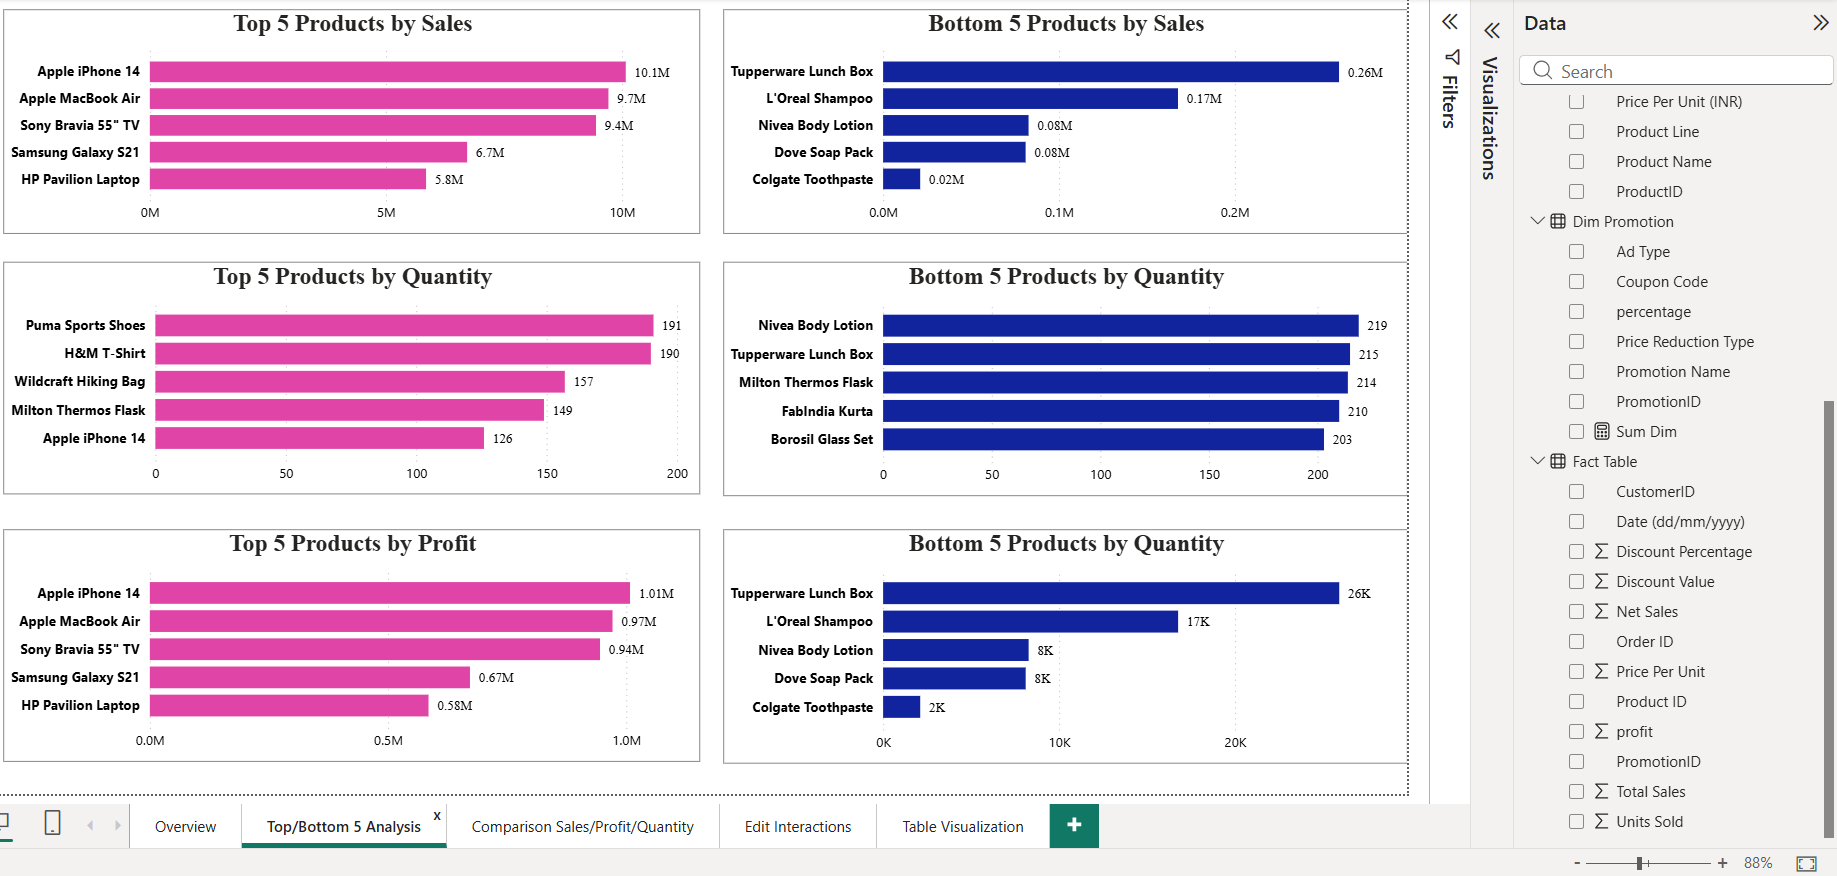

Layout of this report page (visuals, bound fields, positions):
{"tool":"powerbi","page":{"name":"Top/Bottom 5 Analysis","canvas":[1280,720],"ordinal":1},"visuals":[{"type":"barChart","title":"Top 5 Products by Sales","fields":{"Category":["Dim Product.Product Name"],"Y":["Sum(Fact Table.Net Sales)"]},"box":[9.8,9.8,630.3,203.6],"z":0},{"type":"barChart","title":"Bottom 5 Products by Sales","fields":{"Category":["Dim Product.Product Name"],"Y":["Sum(Fact Table.Net Sales)"]},"box":[661.2,9.8,619.1,203.6],"z":1000},{"type":"barChart","title":"Top 5 Products by Quantity","fields":{"Category":["Dim Product.Product Name"],"Y":["Sum(Fact Table.Units Sold)"]},"box":[9.8,238.6,630.3,210.6],"z":2000},{"type":"barChart","title":"Bottom 5 Products by Quantity","fields":{"Category":["Dim Product.Product Name"],"Y":["Sum(Fact Table.Units Sold)"]},"box":[661.2,238.6,619.1,212],"z":3000},{"type":"barChart","title":"Top 5 Products by Profit","fields":{"Category":["Dim Product.Product Name"],"Y":["Sum(Fact Table.profit)"]},"box":[9.8,480.1,630.3,210.6],"z":4000},{"type":"barChart","title":"Bottom 5 Products by Quantity","fields":{"Category":["Dim Product.Product Name"],"Y":["Sum(Fact Table.profit)"]},"box":[661.2,480.1,619.1,212],"z":5000}]}

Visuals, with their boxes on the page's 1280x720 design canvas (x1, y1, x2, y2). These are canvas units, not pixel positions in the 1837x876 screenshot, which may show the page scaled, cropped or inside an application window:
"Top 5 Products by Sales" barChart: (left=10, top=10, right=640, bottom=213)
"Bottom 5 Products by Sales" barChart: (left=661, top=10, right=1280, bottom=213)
"Top 5 Products by Quantity" barChart: (left=10, top=239, right=640, bottom=449)
"Bottom 5 Products by Quantity" barChart: (left=661, top=239, right=1280, bottom=451)
"Top 5 Products by Profit" barChart: (left=10, top=480, right=640, bottom=691)
"Bottom 5 Products by Quantity" barChart: (left=661, top=480, right=1280, bottom=692)
